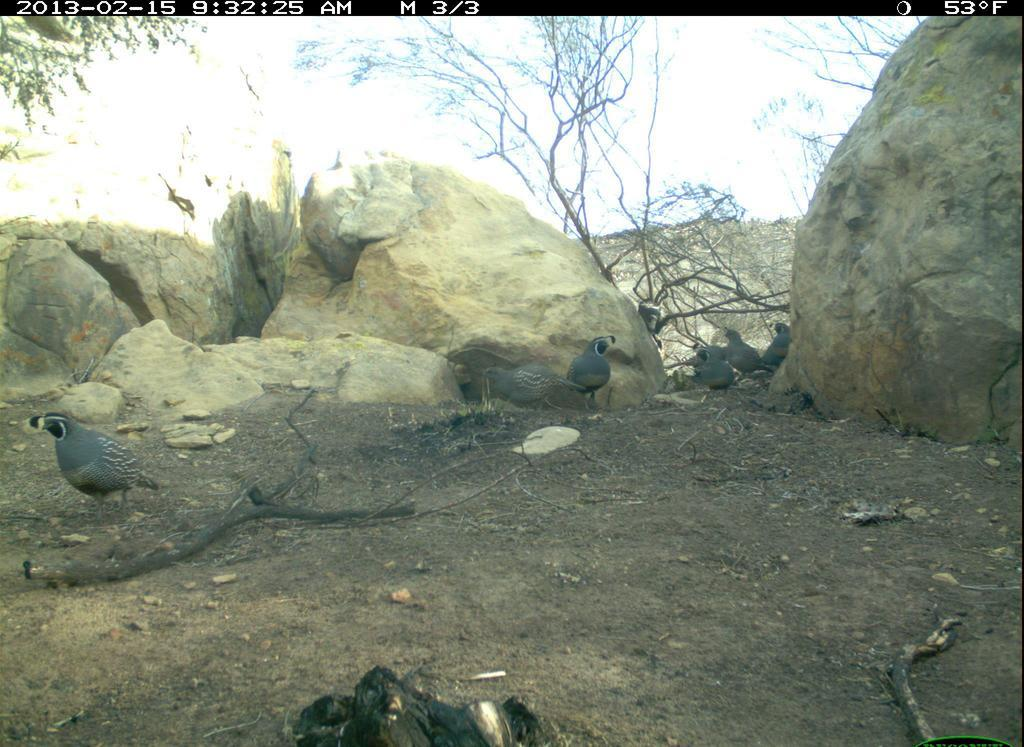bird: (25, 405, 178, 523), (480, 357, 589, 418), (563, 333, 619, 413), (721, 326, 776, 377), (692, 342, 734, 397), (758, 321, 796, 370), (677, 343, 730, 369)
